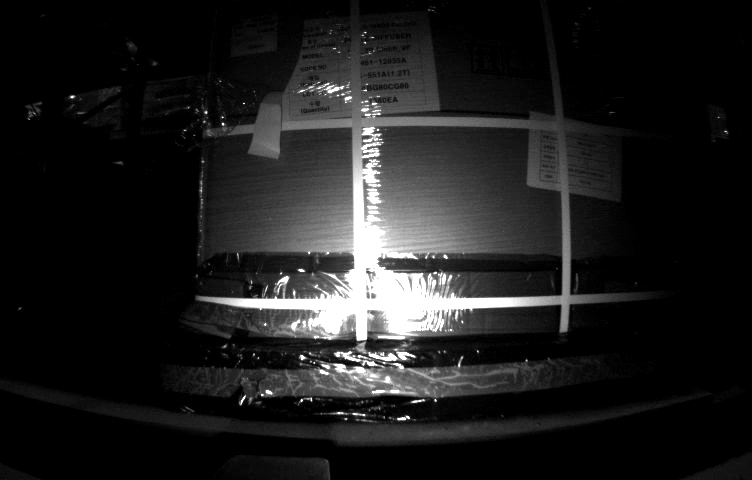True Barcode: (226, 17, 273, 49)
